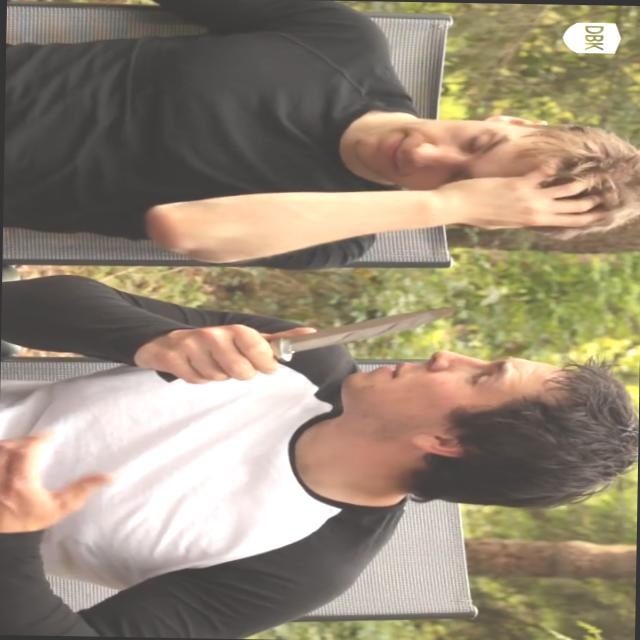knife: (150, 290, 488, 392)
